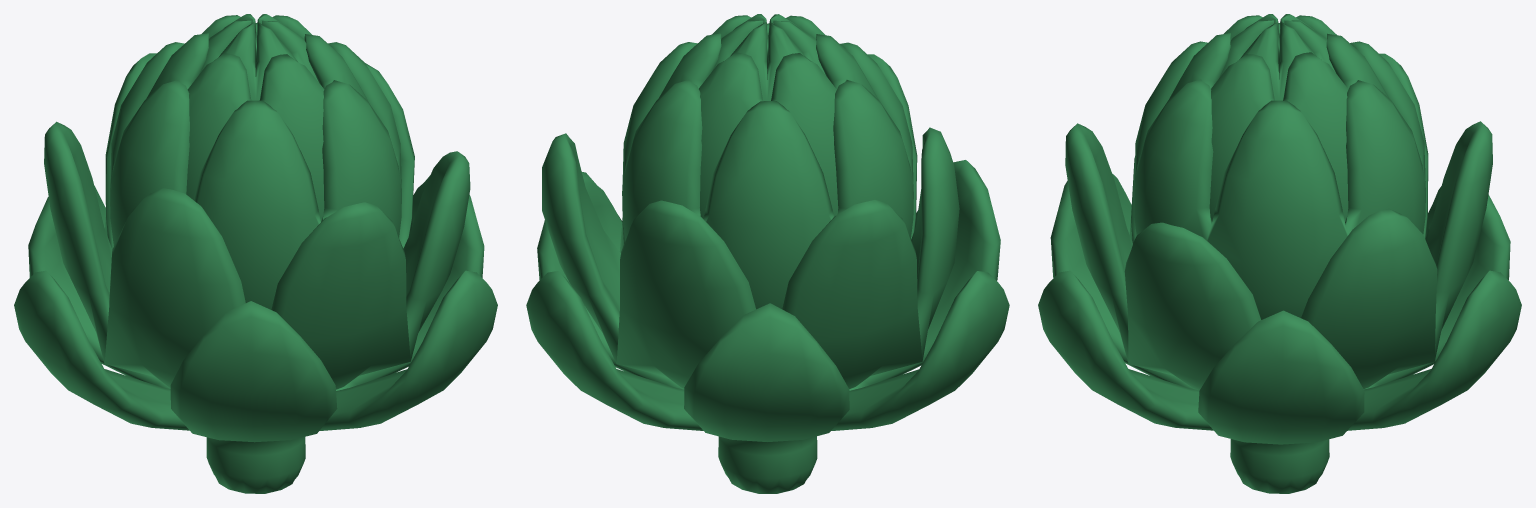
Rendered from Artichoke_03.dae.
3 renders of one model, left to right at view 1: azimuth 30°, elevation 25°; view 2: azimuth 150°, elevation 25°; view 3: azimuth 270°, elevation 25°, orthographic.
Visible parts, largest first — view 1: Artichoke_03_LOD0; view 2: Artichoke_03_LOD0; view 3: Artichoke_03_LOD0.
Part boxes in pixels (x1,y1,x2,y2): Artichoke_03_LOD0: (14, 14, 497, 493); Artichoke_03_LOD0: (526, 14, 1009, 493); Artichoke_03_LOD0: (1038, 14, 1521, 493).
Size of what is drawn, in the model's own units: 5.76 by 5.61 by 5.98.
